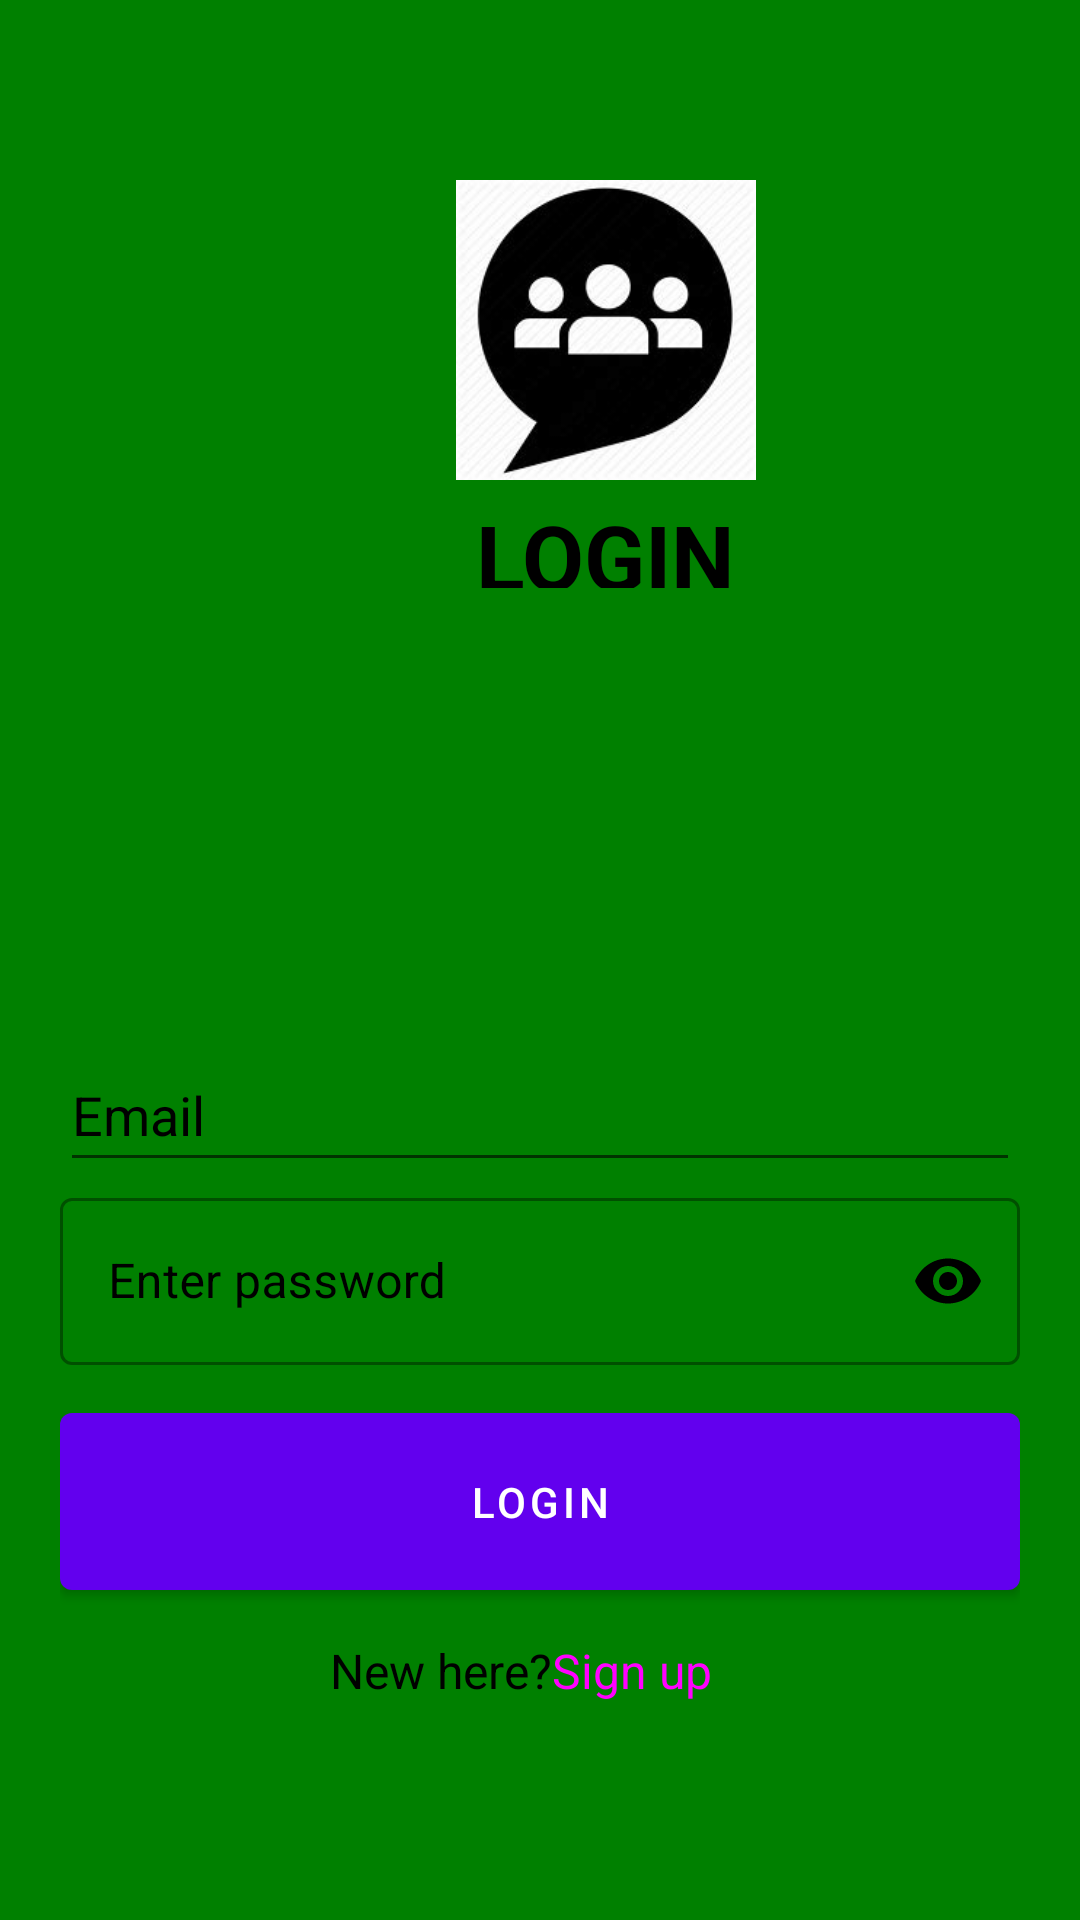

Named icons in this screenshot (1080px x 1920px) and their bounding boxes, (x1, y1, x2, y2):
chat: (456, 180, 756, 480)
